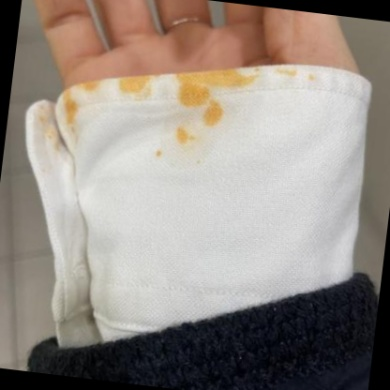kimchi: (168, 73, 223, 115), (57, 96, 88, 150), (119, 76, 161, 105), (200, 72, 257, 92), (38, 107, 63, 141), (201, 101, 228, 131), (173, 126, 201, 149), (276, 69, 299, 81), (83, 83, 100, 93), (151, 146, 162, 156), (195, 157, 204, 169), (254, 67, 264, 77), (307, 71, 315, 83)
